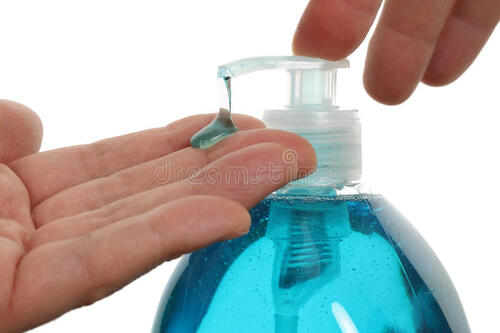sanitizer: (199, 52, 436, 333)
